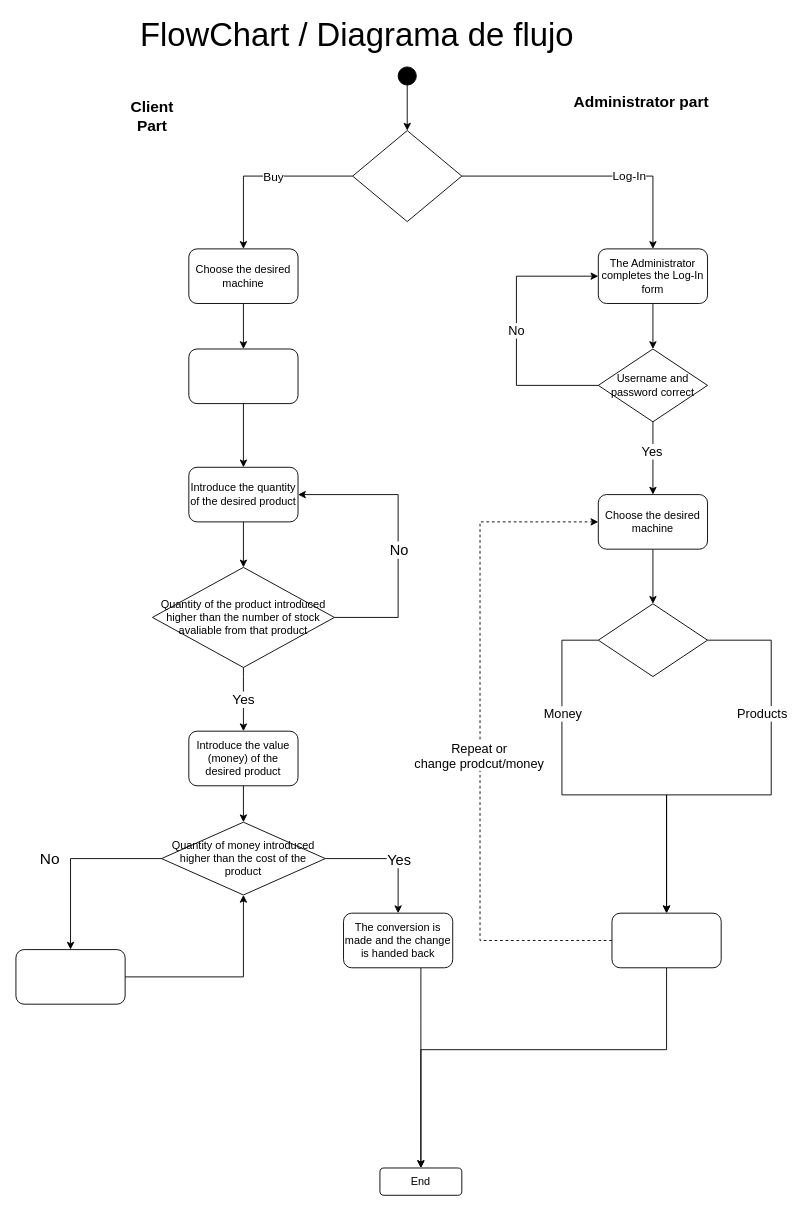
Image size: 803x1211. Some labels were removed from this diagram. Each missing label, with the box of its shape:
Choose the desired product: (188, 348, 298, 404)
Person using the machine can buy or Log-In: (352, 130, 462, 222)
Product or Money refilled: (611, 912, 721, 968)
Refill money or refill products: (597, 603, 708, 677)
The client is asked to re-introduce the value (money): (15, 949, 125, 1004)
